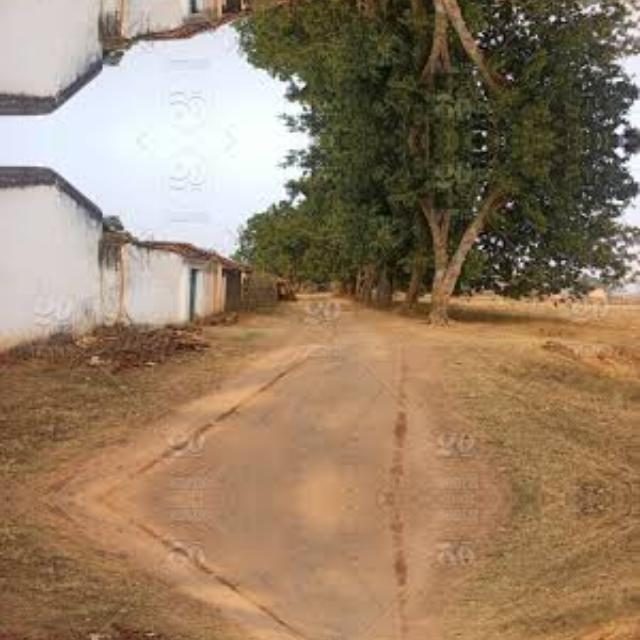obstacle: (386, 142, 502, 336), (386, 0, 502, 138)
